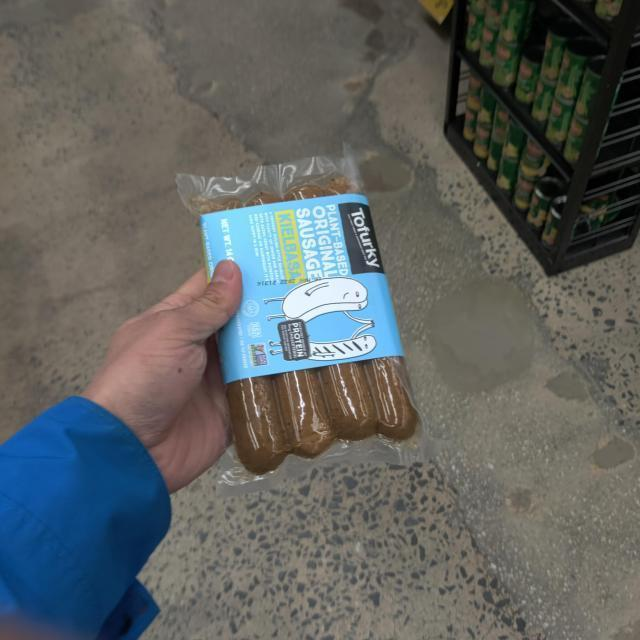Meat: (173, 169, 421, 482)
